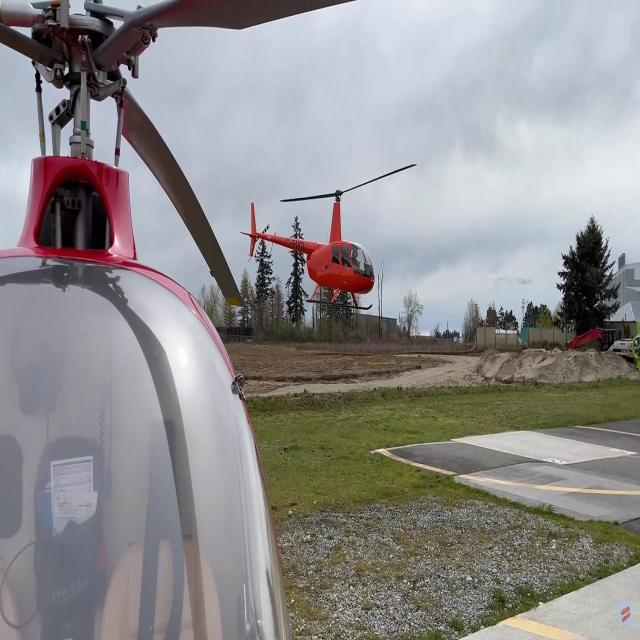CIV_HELO: (240, 190, 375, 311)
